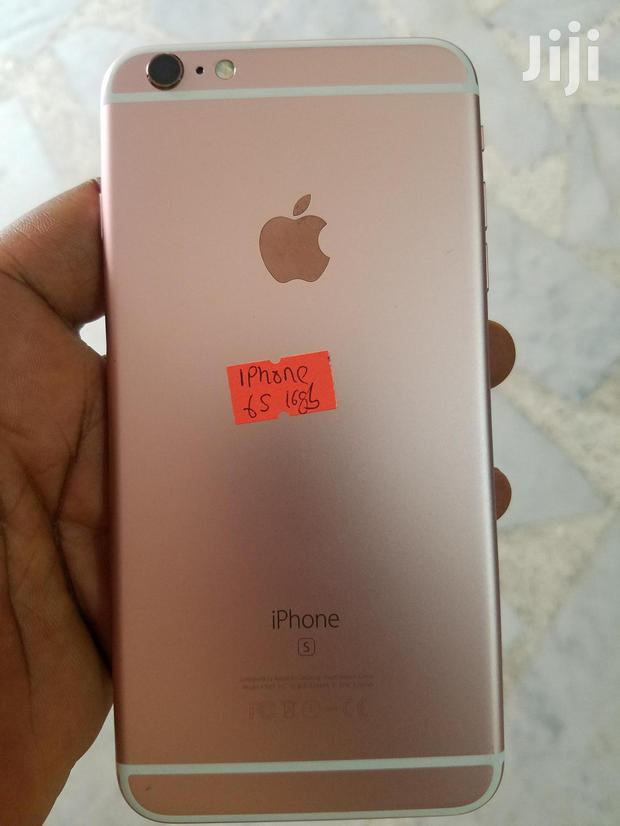apple: (247, 190, 355, 298)
